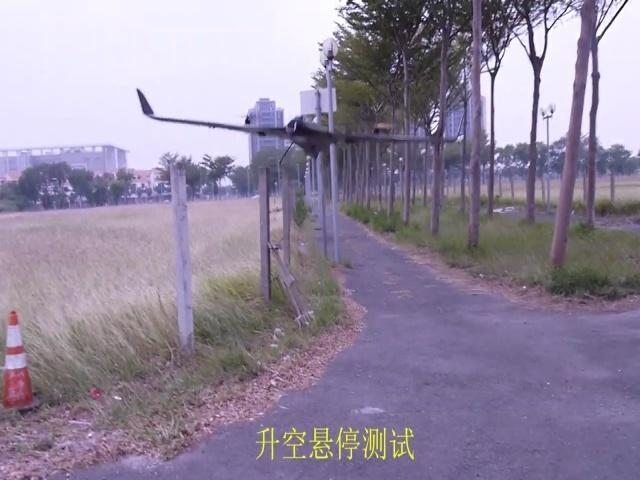Airplane: (136, 87, 462, 162)
